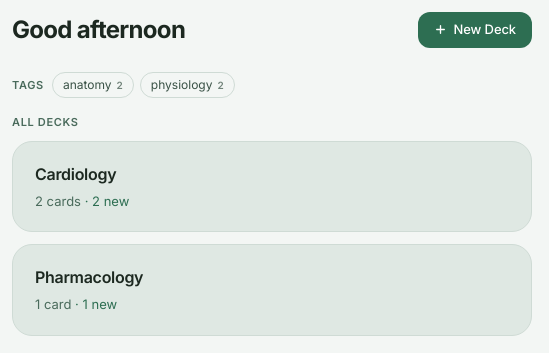
Test case: LibraryView — tag counts › clicking the clear button removes tag filter
What coordinates should you click on to do the following:
click the button with test id "tag-filter-physiology"
I would click on:
 (187, 85)
Its box is [140,72,235,98].
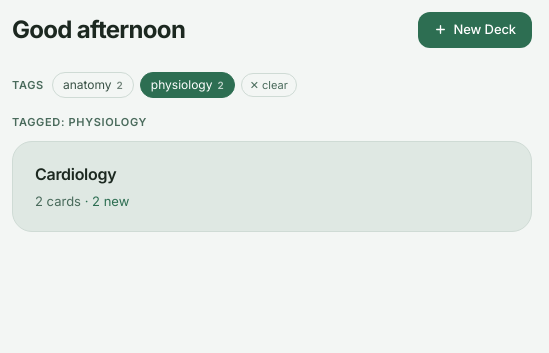
What coordinates should you click on to do the following:
click the button with test id "tag-filter-clear"
I would click on:
 (269, 85)
Its box is [241,73,297,97].
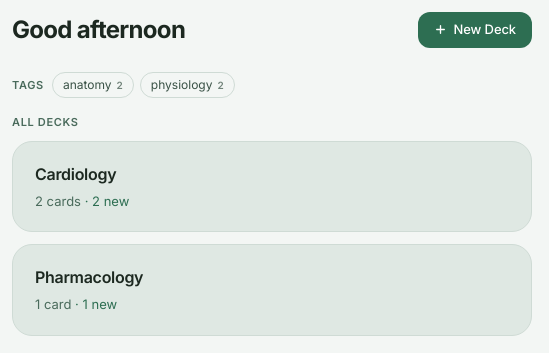
Expected: the text "Cardiology" is shown, [35,162,116,186]
Result: the text "Pharmacology" is shown at [35,265,143,289]
